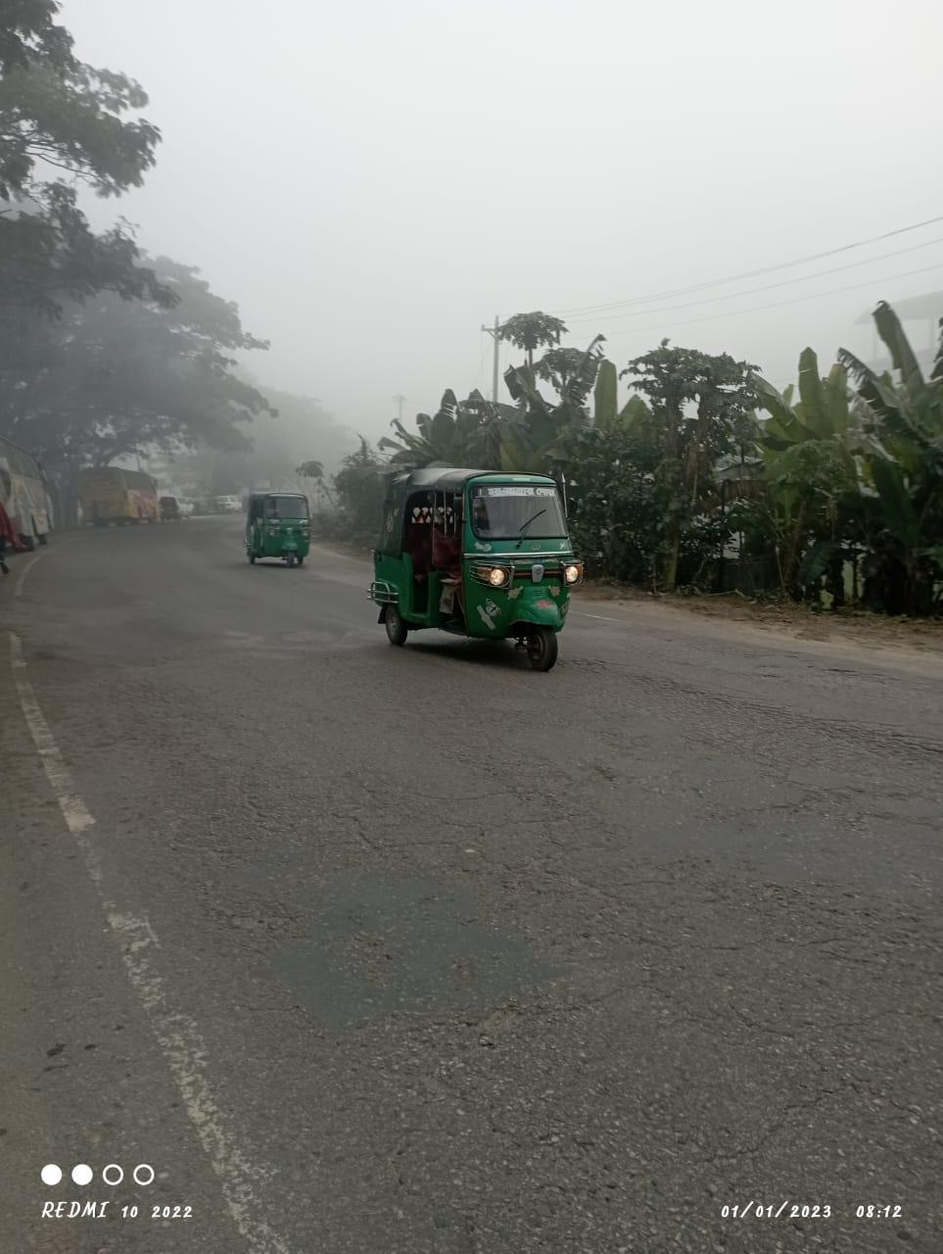Bus: (65, 454, 169, 540), (2, 436, 61, 560)
